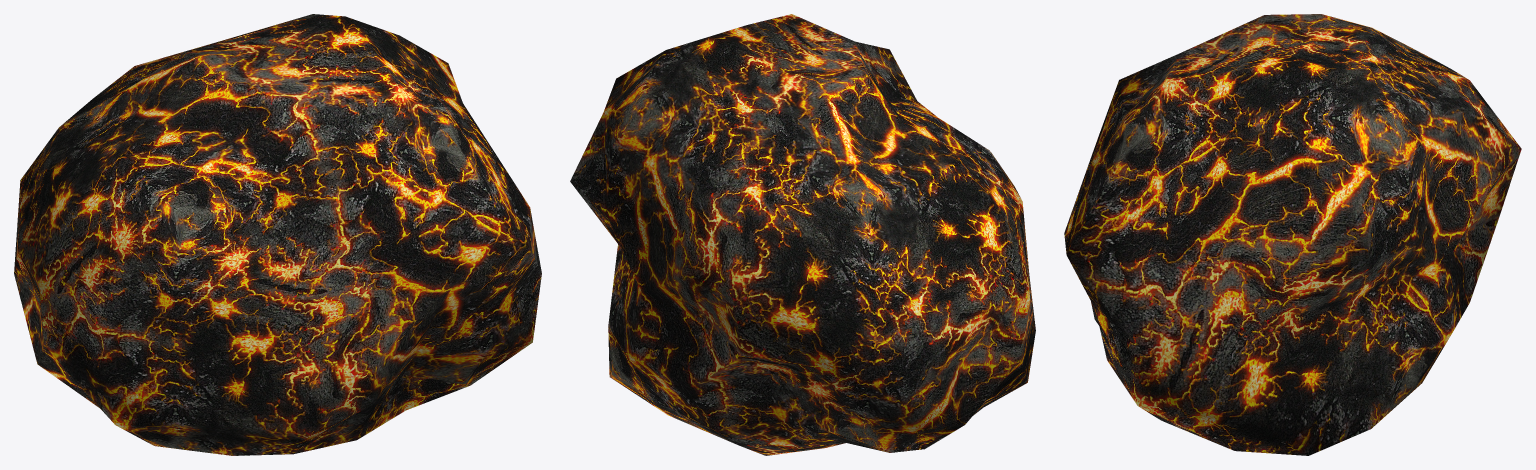
The model's file is asteroid_moltenrock_medium_s01_l1.fbx.
3 renders of one model, left to right at view 1: azimuth 30°, elevation 25°; view 2: azimuth 150°, elevation 25°; view 3: azimuth 270°, elevation 25°, orthographic.
Visible parts, largest first — view 1: mesh_node; view 2: mesh_node; view 3: mesh_node.
Boxes of the visible parts, <box> form: mesh_node: <box>14,14,541,455</box>; mesh_node: <box>570,14,1035,455</box>; mesh_node: <box>1064,14,1521,455</box>.
Bounding box in the file's own units: 102 × 89.95 × 94.13.
